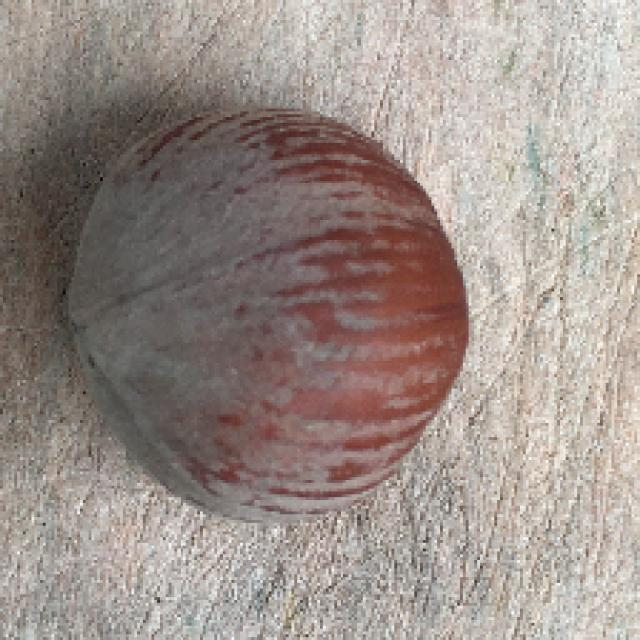qualityHazelnut: (67, 105, 472, 522)
